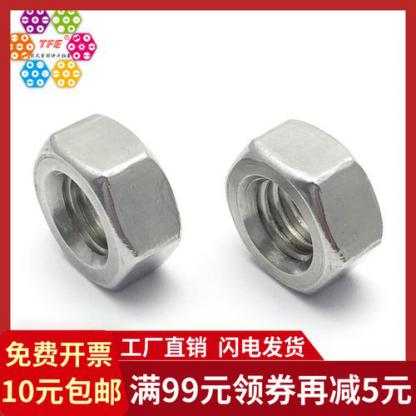FOD: (222, 114, 386, 299), (27, 108, 183, 296)
